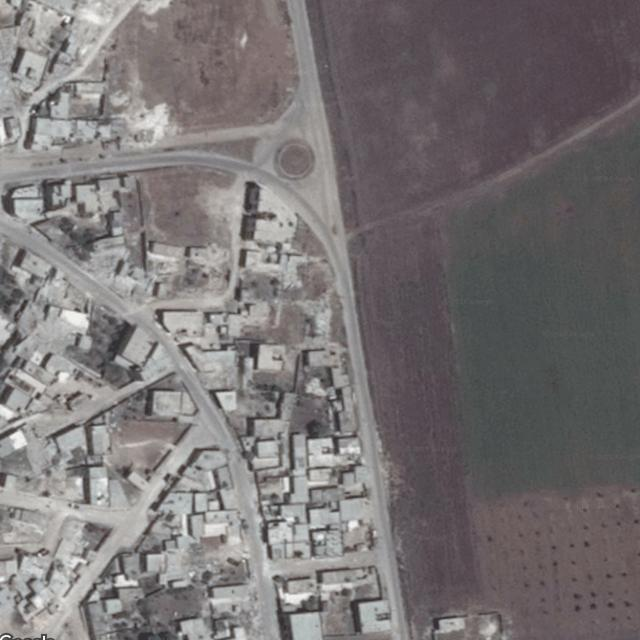damaged_building: (19, 278, 90, 349), (70, 247, 149, 304), (286, 288, 337, 350)
